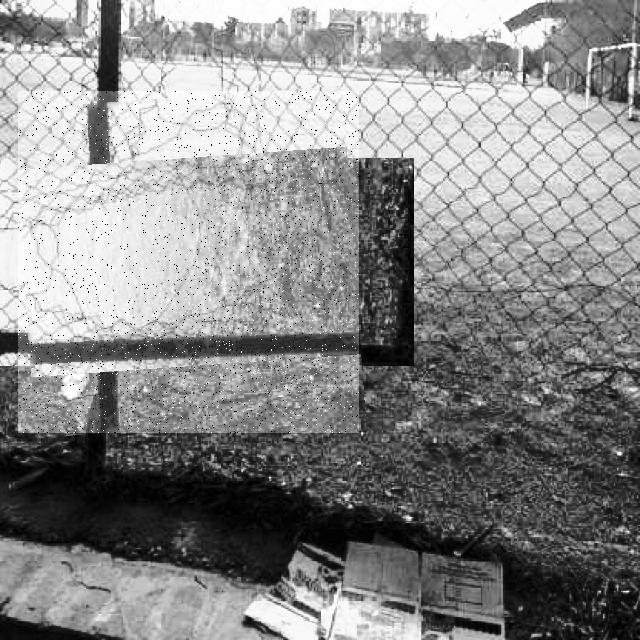anomaly-fence: (18, 91, 359, 433)
